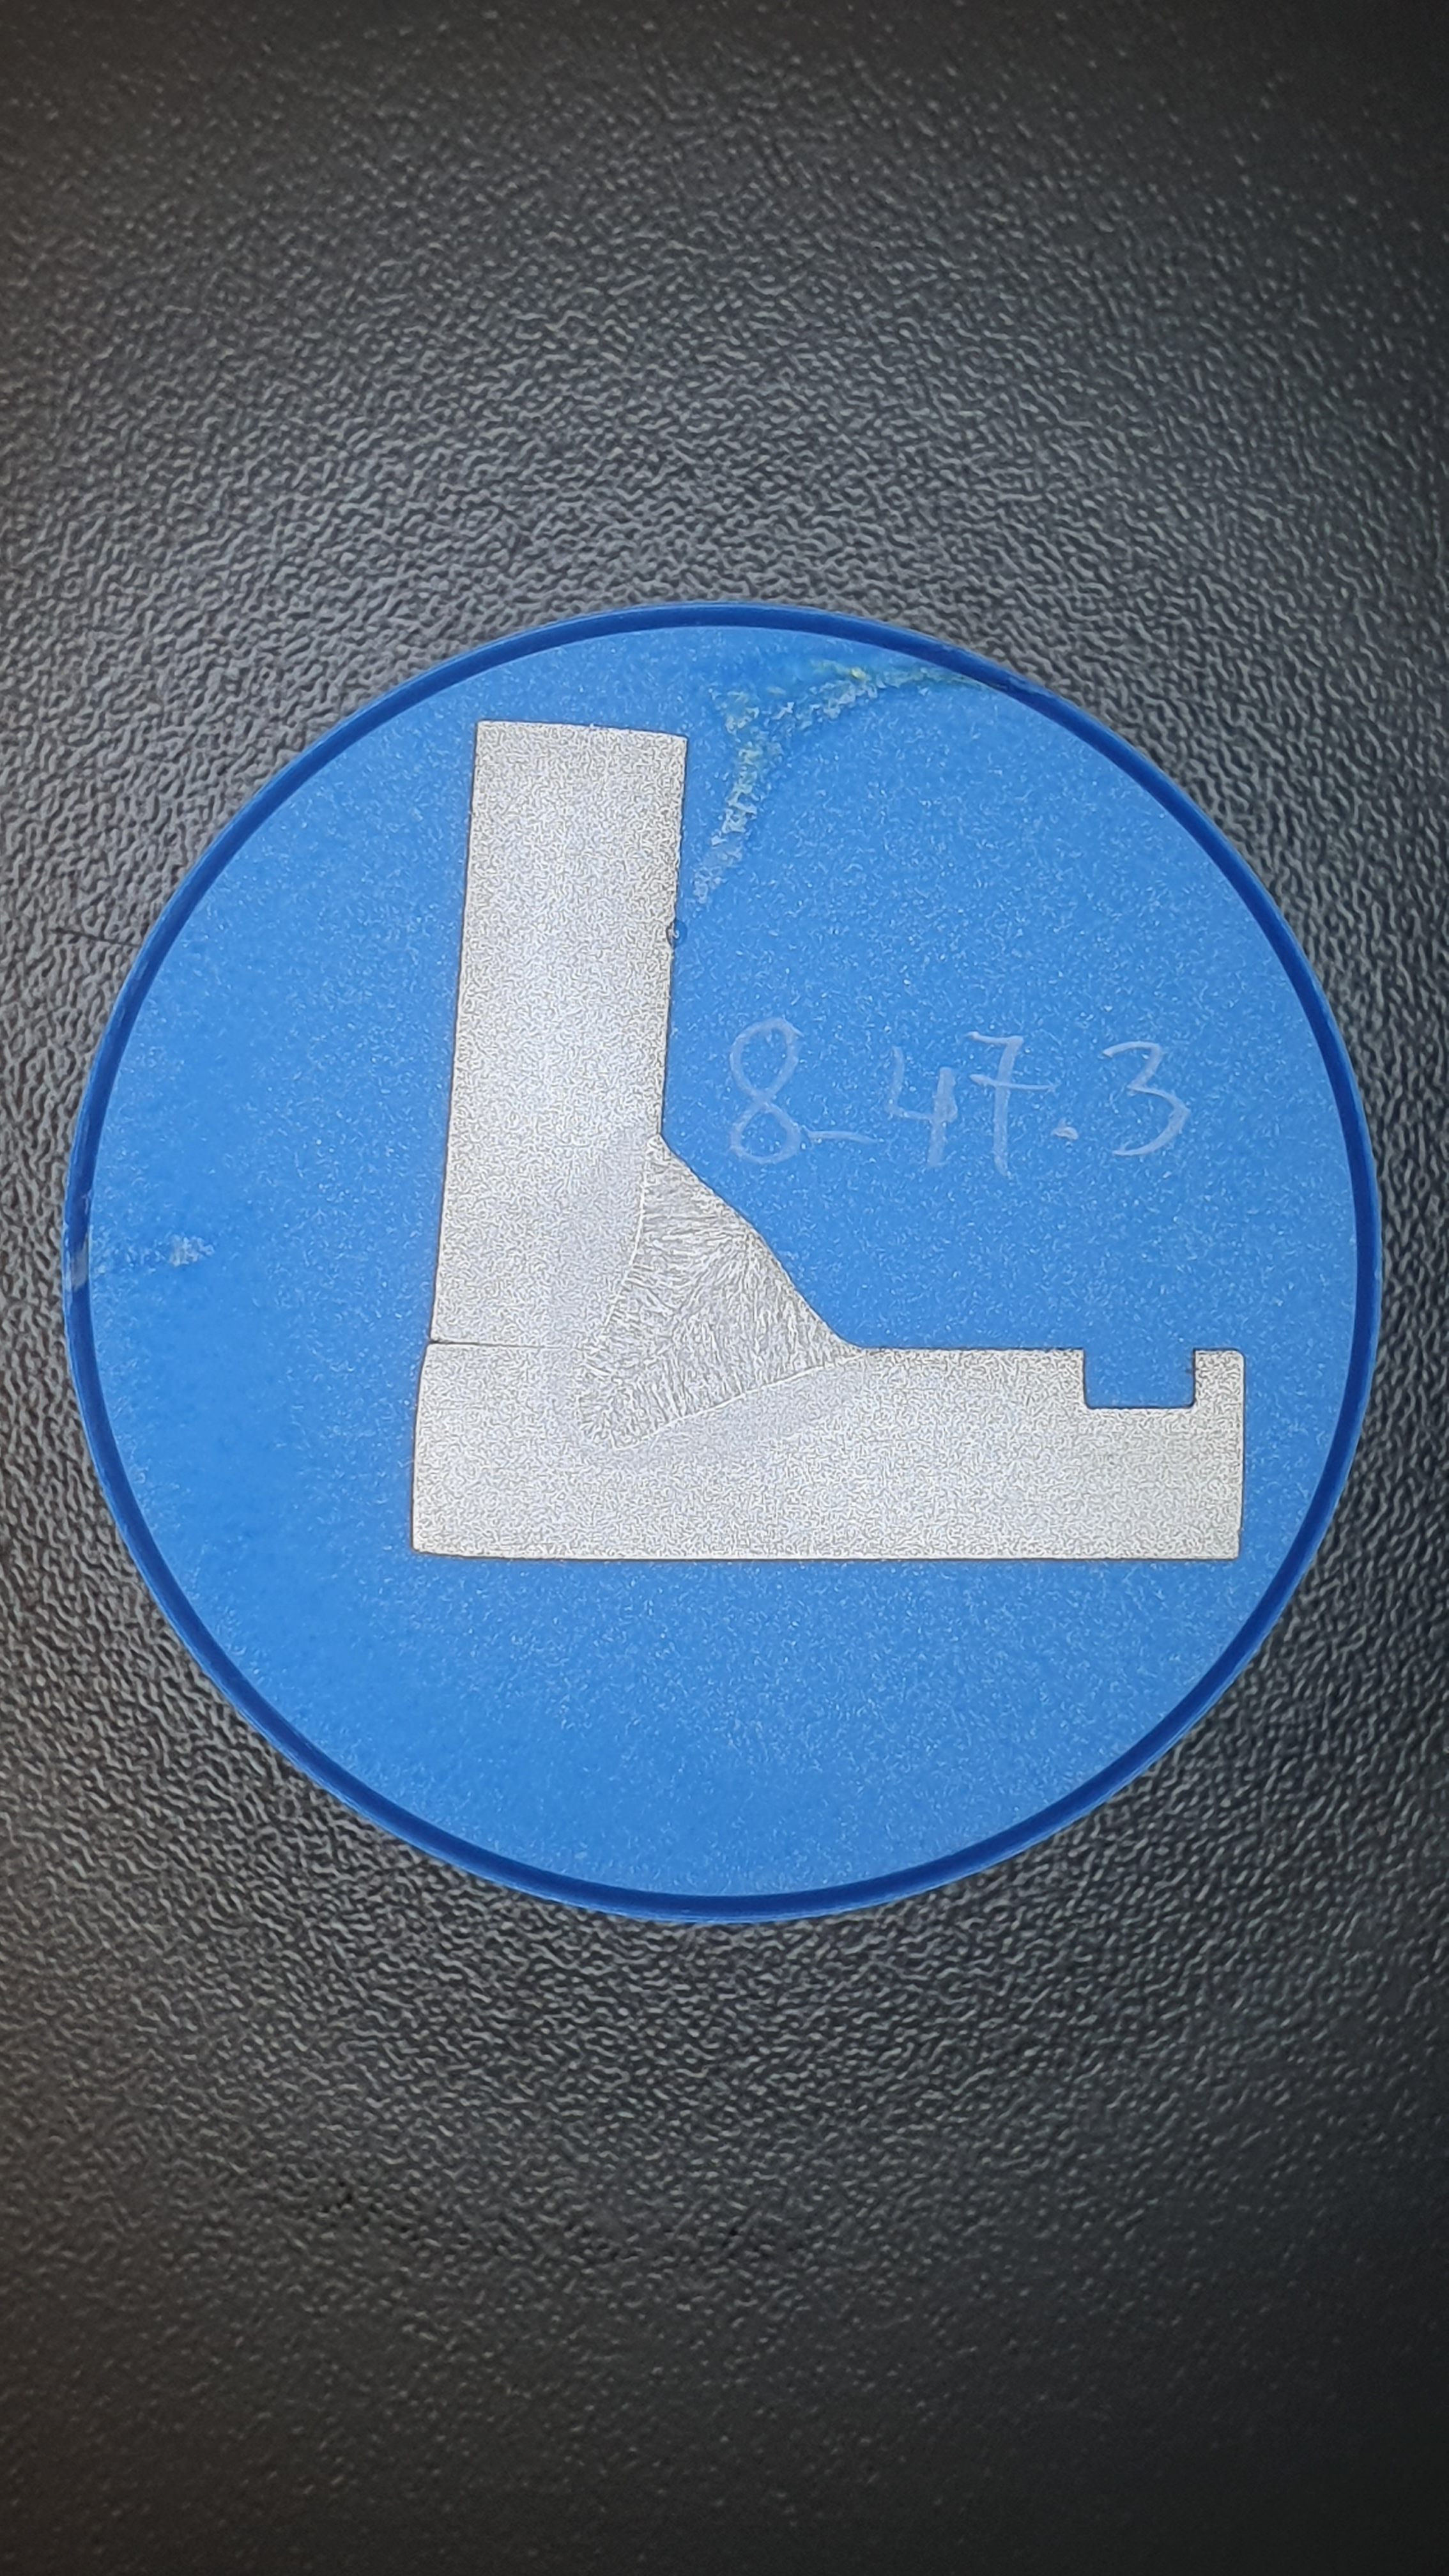Fusion: (578, 1134, 863, 1448)
Hintergrund: (90, 625, 1353, 1895)
Metall: (411, 719, 1245, 1560)
Nebenbereich: (546, 1103, 877, 1468)
